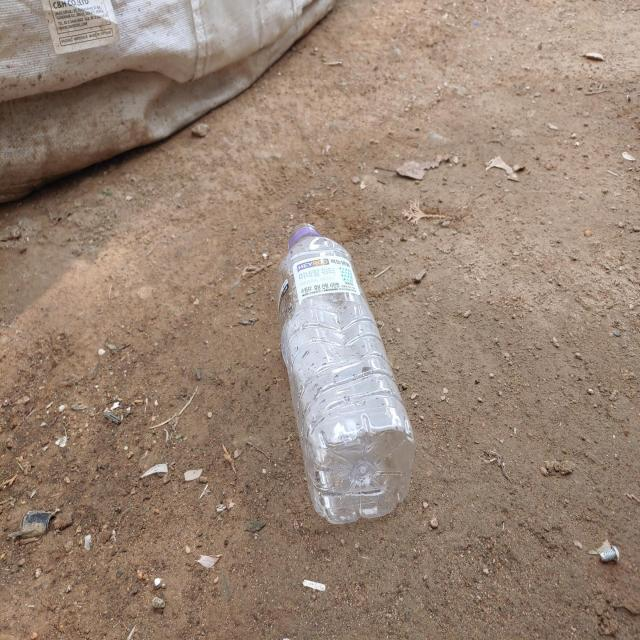plastic: (277, 223, 415, 524)
